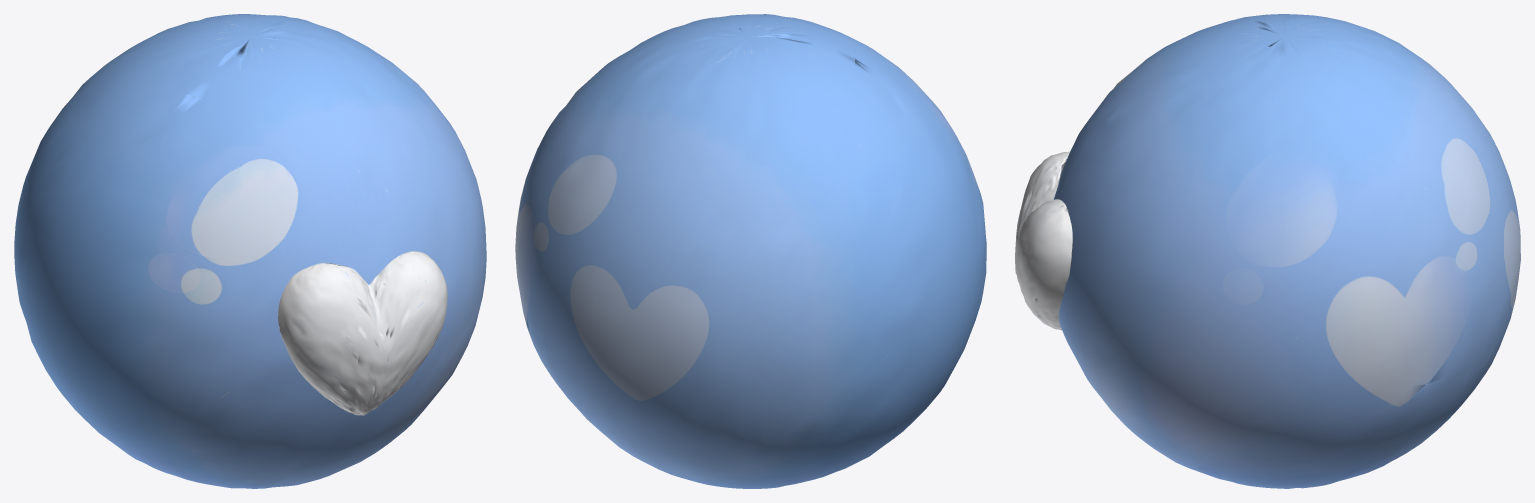
The model's file is robux_self_revive.glb.
3 renders of one model, left to right at view 1: azimuth 30°, elevation 25°; view 2: azimuth 150°, elevation 25°; view 3: azimuth 270°, elevation 25°, orthographic.
Size of the model in its own units: 0.8804 by 0.8867 by 0.9448.
Materials: 1 (1 with a texture image).
